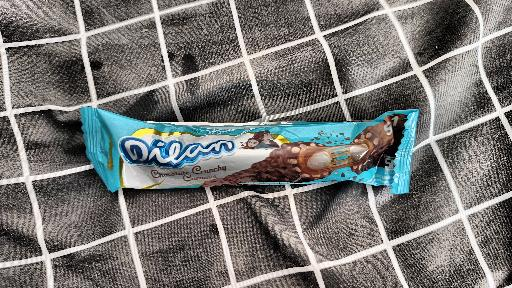dilan: (78, 106, 425, 199)
